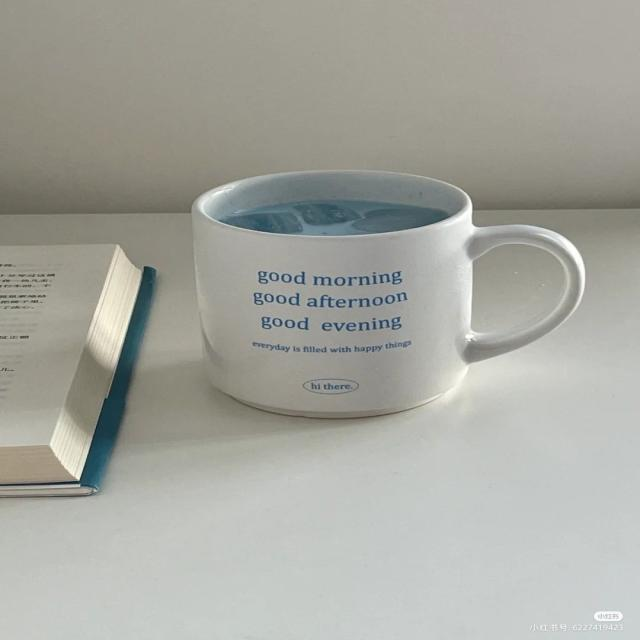glass cup: (193, 169, 586, 419)
